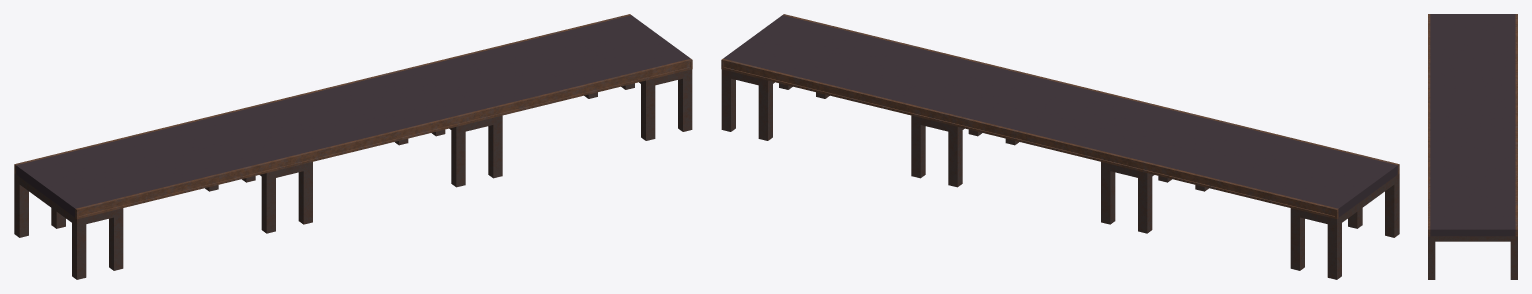
The model's file is Conveyor.fbx.
3 views of the same model, side by side, from view 1: azimuth 30°, elevation 25°; view 2: azimuth 150°, elevation 25°; view 3: azimuth 270°, elevation 25° (orthographic). The views are drawn at different scales.
Parts seen in each view (by area): view 1: Baked Conveyor Belt, Baked Conveyor Struts; view 2: Baked Conveyor Belt, Baked Conveyor Struts; view 3: Baked Conveyor Belt, Baked Conveyor Struts.
Part boxes in pixels (bbox=[...]): Baked Conveyor Belt: bbox=[14, 14, 692, 219]; Baked Conveyor Struts: bbox=[14, 69, 692, 279]; Baked Conveyor Belt: bbox=[721, 14, 1399, 219]; Baked Conveyor Struts: bbox=[721, 69, 1399, 279]; Baked Conveyor Belt: bbox=[1428, 14, 1517, 236]; Baked Conveyor Struts: bbox=[1428, 236, 1517, 279].
Bounding box in the file's own units: 478 × 52.02 × 84.13.
Materials: 2 (2 with a texture image).
